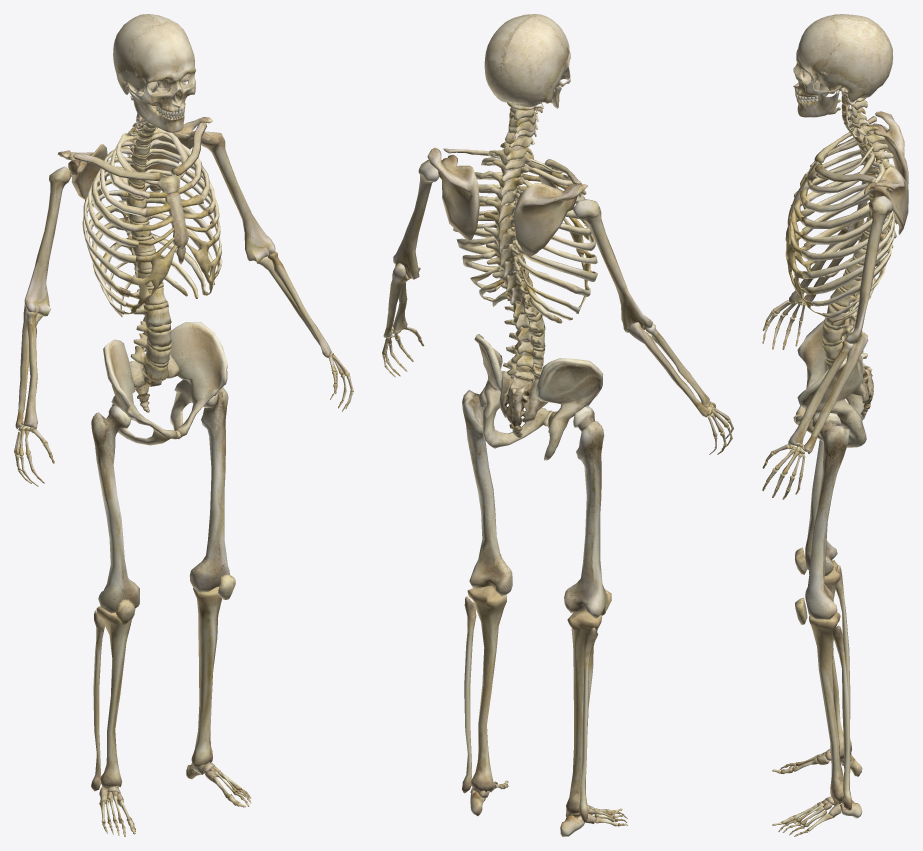
The model's file is skeleton.glb.
The picture shows the model from 3 angles, left to right: view 1: azimuth 30°, elevation 25°; view 2: azimuth 150°, elevation 25°; view 3: azimuth 270°, elevation 25°; orthographic projection. The views are drawn at different scales.
Parts seen in each view (by area): view 1: Coxal_der, Femur_izq, Femur_der, Hueso_frontal, Tibia_der, Coxal_izq, Tibia_izq, Humero_izq, Humero_der, Hueso_parietal_izq, cartilago_costal_6_izq, Sternum (+13 smaller); view 2: Femur_izq, Femur_der, Coxal_izq, Escapula_izq, Tibia_der, Hueso_parietal_izq, Escapula_der, Tibia_izq, Coxal_der, Humero_izq, Hueso_occipital, Humero_der (+8 smaller); view 3: Femur_der, Hueso_parietal_der, Tibia_der, Coxal_der, Hueso_frontal, Humero_der, Coxal_izq, Escapula_der, Perone_der, Cubito_der, Radio_der, Femur_izq (+29 smaller).
Boxes of the visible parts, bbox=[...] form: Coxal_der: bbox=[170, 322, 227, 439]; Femur_izq: bbox=[91, 405, 139, 613]; Femur_der: bbox=[189, 387, 229, 592]; Hueso_frontal: bbox=[126, 24, 195, 81]; Tibia_der: bbox=[191, 586, 221, 768]; Coxal_izq: bbox=[103, 339, 176, 445]; Tibia_izq: bbox=[96, 606, 134, 787]; Humero_izq: bbox=[24, 166, 71, 316]; Humero_der: bbox=[201, 131, 275, 263]; Hueso_parietal_izq: bbox=[113, 14, 159, 94]; cartilago_costal_6_izq: bbox=[124, 237, 177, 314]; Sternum: bbox=[157, 174, 188, 264]; Femur_izq: bbox=[564, 406, 605, 618]; Femur_der: bbox=[462, 387, 512, 596]; Coxal_izq: bbox=[536, 358, 603, 460]; Escapula_izq: bbox=[513, 183, 587, 256]; Tibia_der: bbox=[467, 585, 506, 792]; Hueso_parietal_izq: bbox=[504, 16, 562, 102]; Escapula_der: bbox=[427, 147, 479, 240]; Tibia_izq: bbox=[566, 610, 602, 813]; Coxal_der: bbox=[474, 334, 549, 448]; Humero_izq: bbox=[573, 199, 652, 332]; Hueso_occipital: bbox=[485, 63, 548, 107]; Humero_der: bbox=[393, 160, 439, 279]; Femur_der: bbox=[805, 413, 849, 619]; Hueso_parietal_der: bbox=[833, 17, 890, 101]; Tibia_der: bbox=[809, 612, 850, 801]; Coxal_der: bbox=[794, 355, 866, 447]; Hueso_frontal: bbox=[796, 15, 839, 74]; Humero_der: bbox=[846, 196, 893, 343]; Coxal_izq: bbox=[796, 320, 865, 421]; Escapula_der: bbox=[864, 167, 908, 234]; Perone_der: bbox=[831, 625, 851, 810]; Cubito_der: bbox=[804, 332, 868, 453]; Radio_der: bbox=[788, 340, 853, 446]; Femur_izq: bbox=[805, 440, 837, 576].
Bounding box in the file's own units: 801 × 1808 × 306.
Materials: 14 (14 with a texture image).
